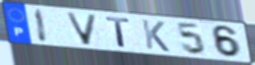5: (175, 21, 207, 56)
6: (210, 24, 244, 59)
I: (33, 8, 50, 44)
K: (140, 18, 172, 53)
T: (104, 16, 133, 49)
V: (64, 11, 100, 47)
